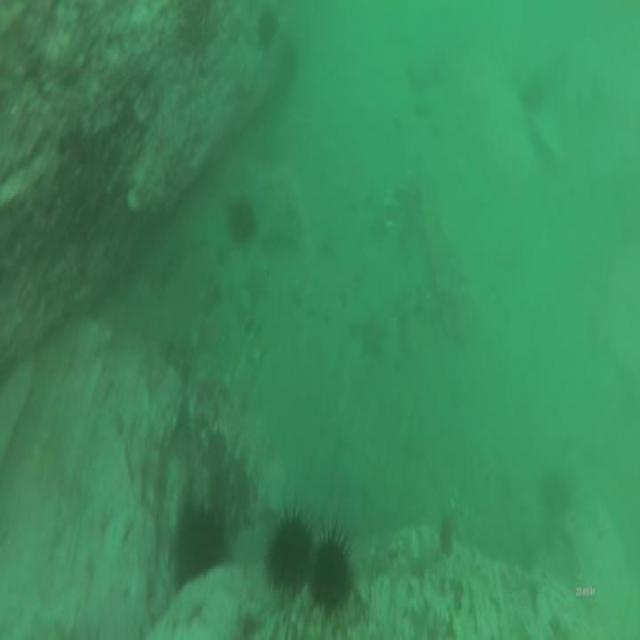echinus: (302, 517, 356, 626), (262, 504, 319, 607), (170, 503, 231, 591), (224, 188, 259, 251), (254, 6, 282, 54)
starfish: (357, 306, 387, 364)
